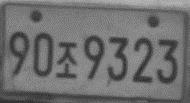0: (32, 32, 53, 76)
2: (131, 36, 153, 84)
3: (154, 38, 178, 84), (106, 35, 128, 81)
9: (82, 34, 105, 80), (9, 30, 30, 76)
조: (55, 40, 79, 79)
